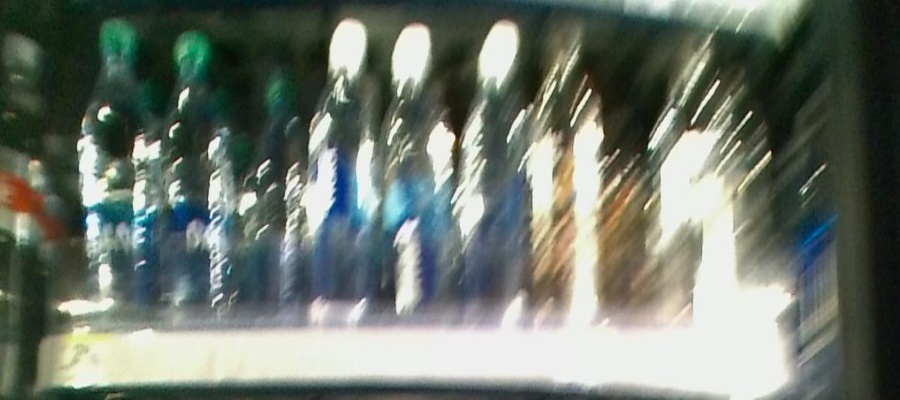bottle: (79, 14, 155, 325), (161, 20, 238, 309), (536, 10, 604, 322), (384, 23, 454, 323), (313, 9, 378, 323), (462, 16, 529, 320), (245, 50, 304, 305)
